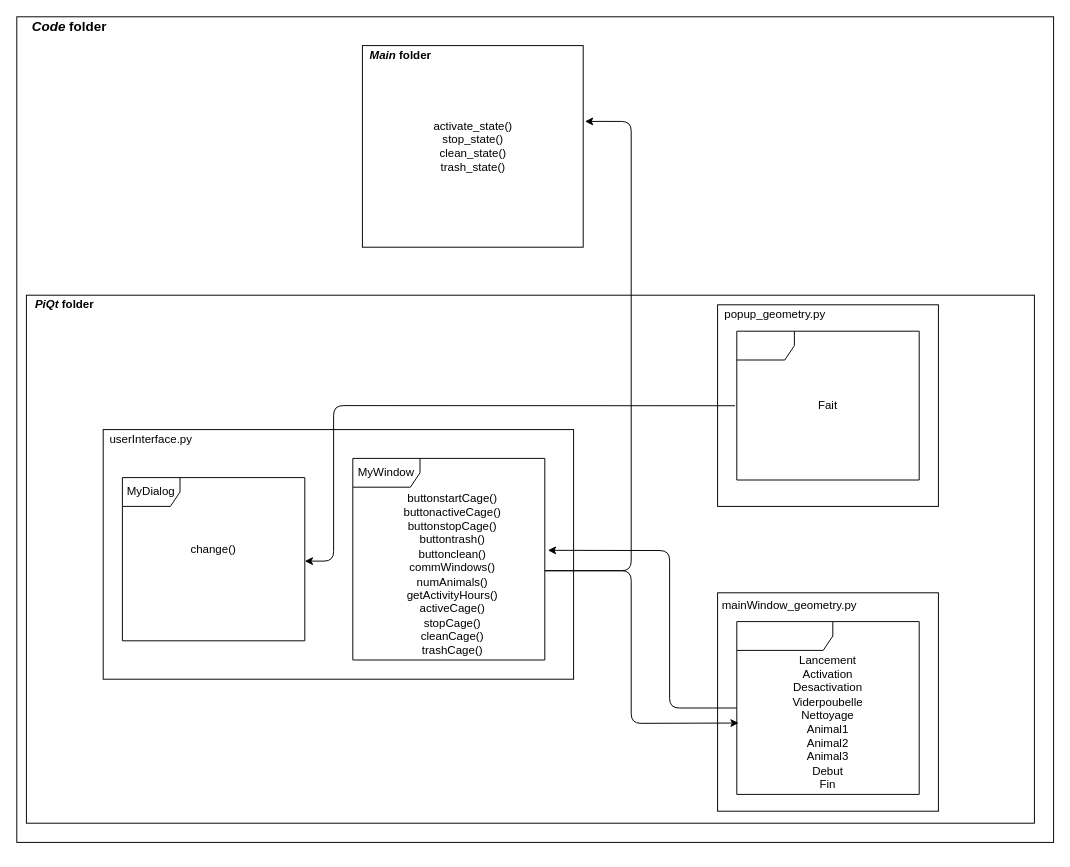
Some shapes in this 1070 by 867 pixel diagram are drawn without their labels. The box of each missing label's shape, as (x1, y1, x2, y2) in pixels:
UI_Dialog: (736, 330, 919, 480)
UI_MainWindow: (736, 621, 919, 794)
